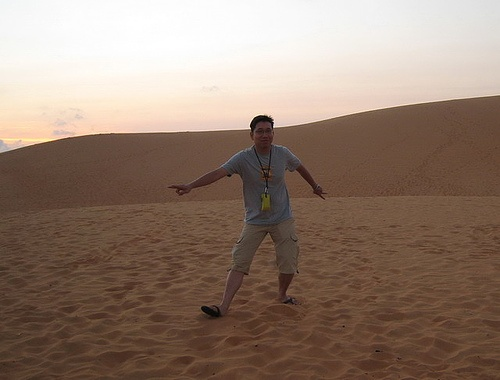head: (249, 116, 276, 152)
person: (169, 116, 327, 316)
